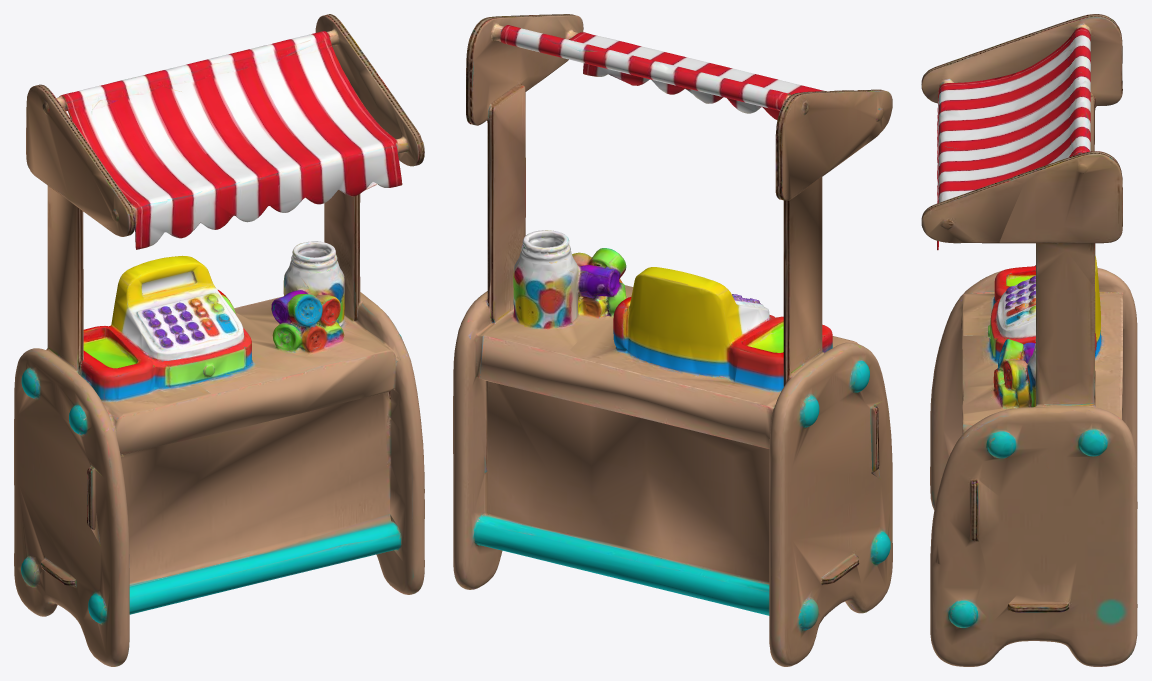
Rendered from market.glb.
3 views of the same model, side by side, from view 1: azimuth 30°, elevation 25°; view 2: azimuth 150°, elevation 25°; view 3: azimuth 270°, elevation 25° (orthographic). The views are drawn at different scales.
Visible parts, largest first — view 1: Mesh_0; view 2: Mesh_0; view 3: Mesh_0.
Part boxes in pixels (x1,y1,x2,y2): Mesh_0: [14, 14, 424, 666]; Mesh_0: [453, 14, 892, 666]; Mesh_0: [921, 14, 1137, 666].
Bounding box in the file's own units: 1.26 × 1.91 × 0.7307.
1 material, 1 textured.
